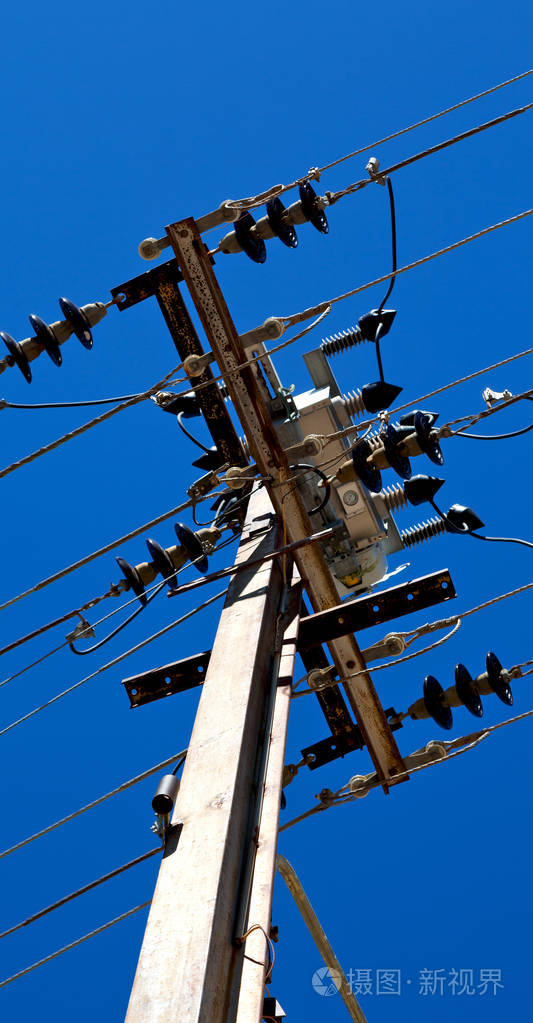insulator: (1, 297, 95, 386), (417, 650, 519, 732), (116, 522, 210, 608), (234, 182, 328, 264)
